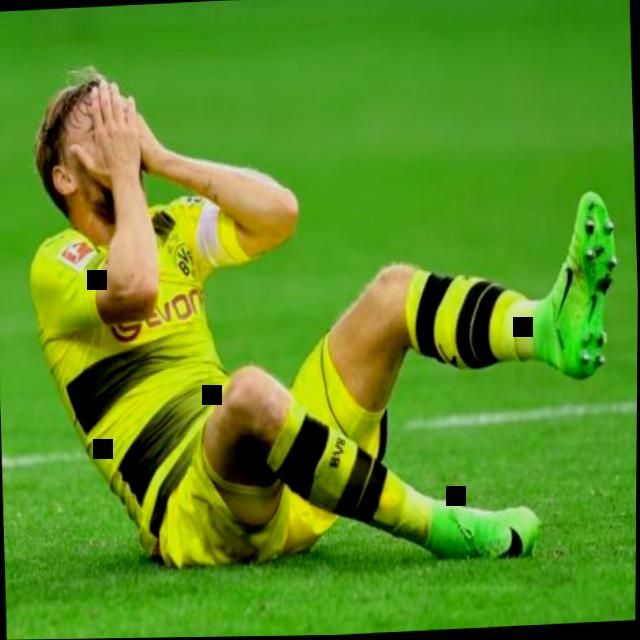Fall-Detected: (0, 18, 637, 603)
